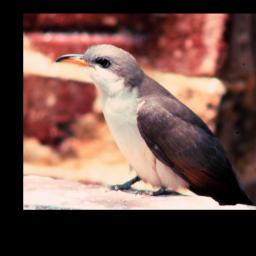Cuckoo: (55, 44, 256, 207)
